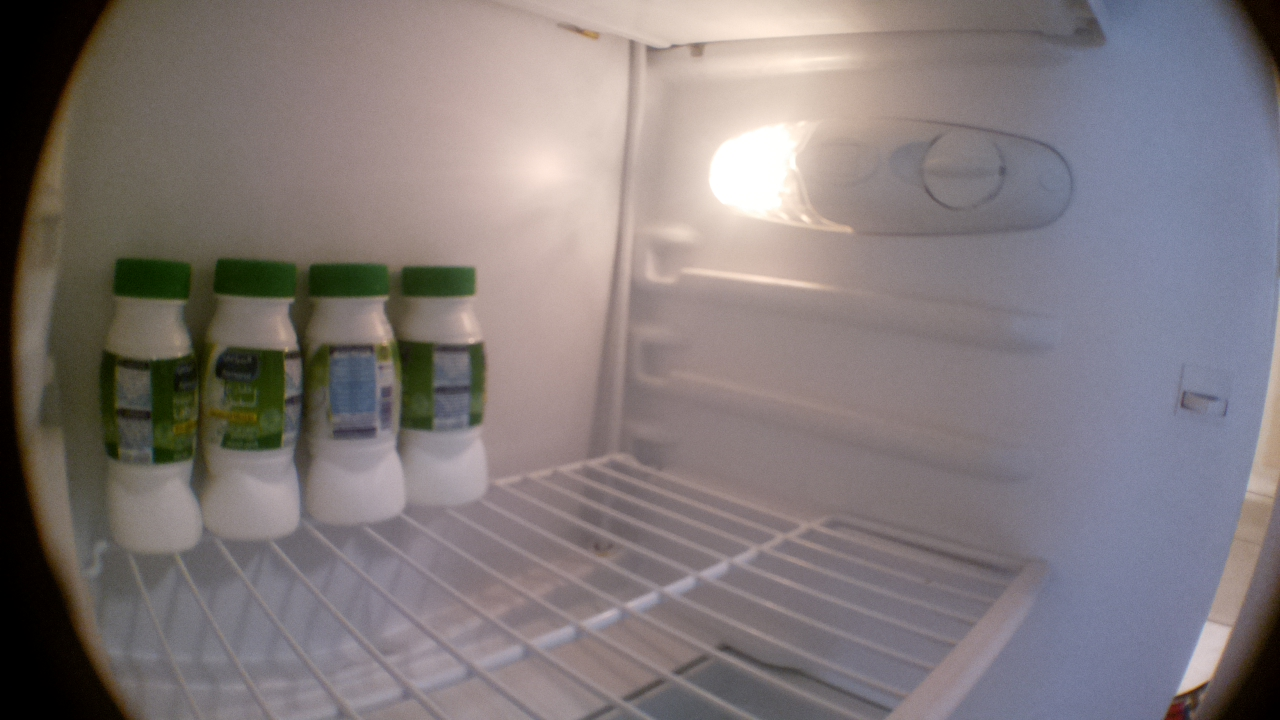laban: (199, 254, 302, 545), (99, 251, 194, 558), (395, 258, 497, 530), (304, 259, 390, 527)
